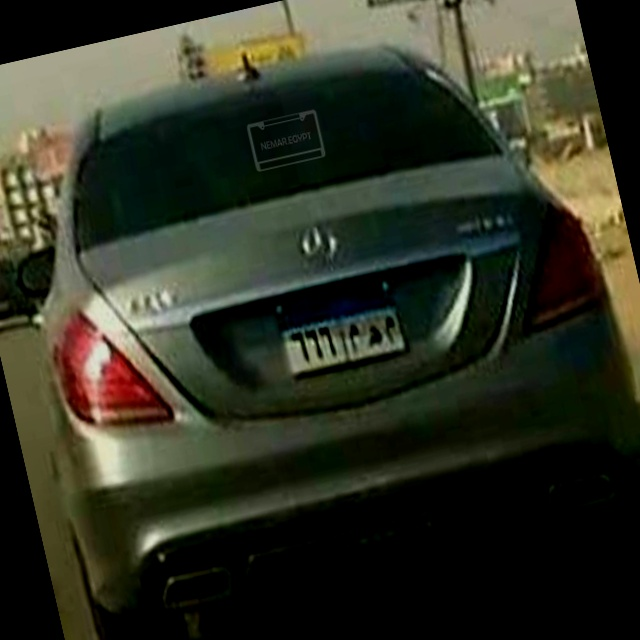License Plate: (265, 267, 415, 387)
